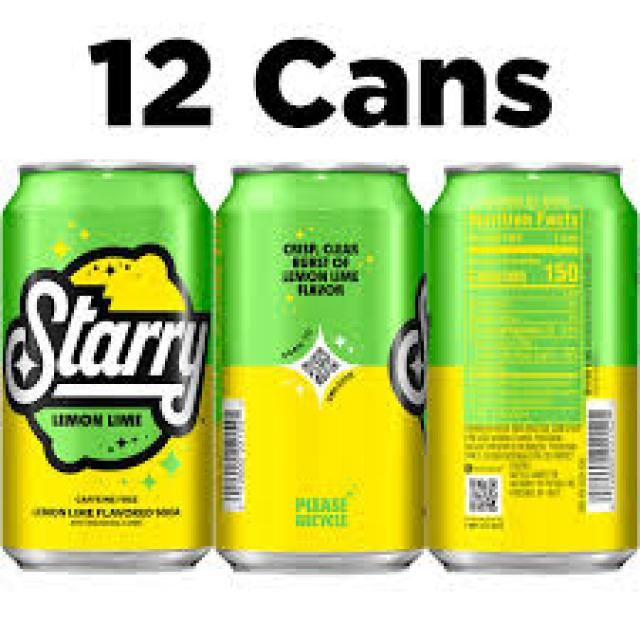Cans: (205, 154, 435, 583), (3, 154, 219, 583), (421, 159, 640, 575)
